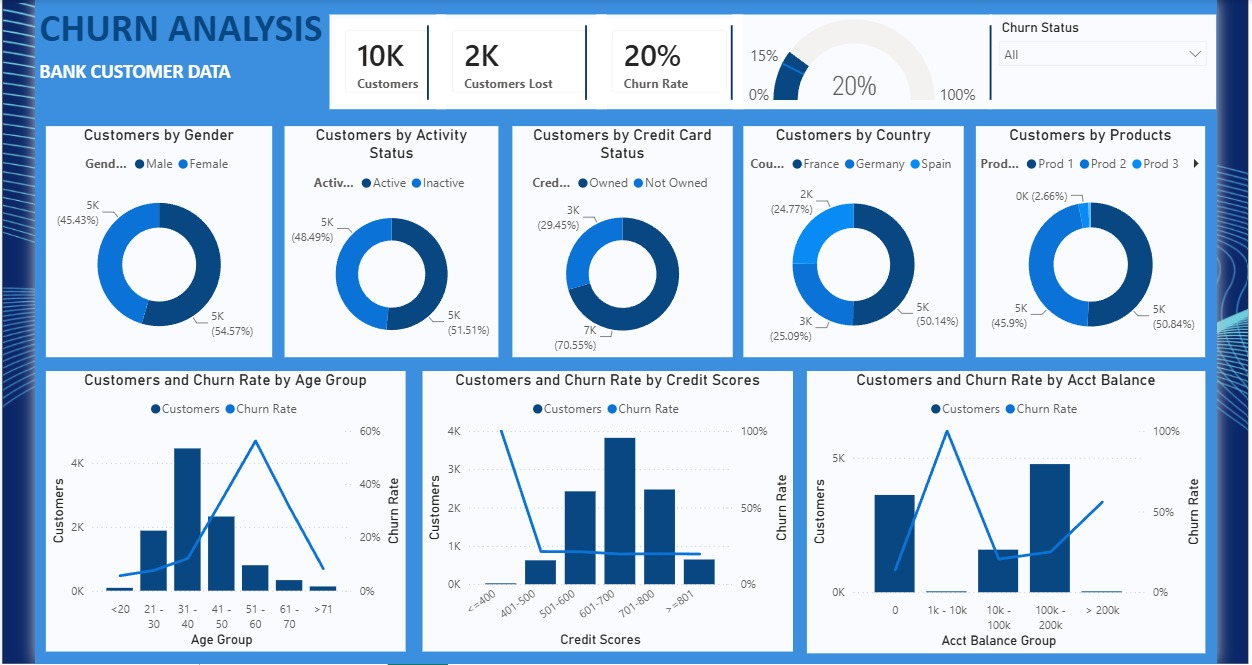

The dashboard page shown, as its layout file describes it:
{"tool":"powerbi","page":{"name":"Churn Analysis","canvas":[1280,720],"ordinal":0},"visuals":[{"type":"cardVisual","fields":{"Data":["Bank Customer Churn Prediction.Customers"]},"box":[319,16.8,125.9,102.4],"z":0},{"type":"cardVisual","fields":{"Data":["Customer Data.Customers Lost"]},"box":[434.8,16.8,184.7,102.4],"z":1000},{"type":"cardVisual","fields":{"Data":["Customer Data.Churn Rate"]},"box":[607.8,16.8,159.5,102.4],"z":2000},{"type":"donutChart","fields":{"Y":["Customer Data.Customers"],"Category":["Customer Data.Gender"]},"box":[11.8,137.7,245.1,250.2],"z":3000},{"type":"donutChart","fields":{"Y":["Customer Data.Customers"],"Category":["Customer Data.Activity Status"]},"box":[270.3,137.7,231.7,250.2],"z":4000},{"type":"donutChart","fields":{"Y":["Customer Data.Customers"],"Category":["Customer Data.Credit Card Status"]},"box":[517.1,137.7,238.4,250.2],"z":5000},{"type":"donutChart","fields":{"Y":["Customer Data.Customers"],"Category":["Customer Data.Country"]},"box":[767.2,137.7,238.4,250.2],"z":6000},{"type":"donutChart","fields":{"Y":["Customer Data.Customers"],"Category":["Customer Data.Products"]},"box":[1019.1,137.7,248.5,250.2],"z":7000},{"type":"lineClusteredColumnComboChart","title":"Customers and Churn Rate by Acct  Balance ","fields":{"Y2":["Customer Data.Churn Rate"],"Y":["Customer Data.Customers"],"Category":["Account Balance Groups.Acct  Balance Group"]},"box":[836.1,402.9,431.5,305.6],"z":8000},{"type":"lineClusteredColumnComboChart","fields":{"Y":["Customer Data.Customers"],"Y2":["Customer Data.Churn Rate"],"Category":["Credit Credit Groups.Credit Scores"]},"box":[419.7,402.9,401.3,303.9],"z":9000},{"type":"lineClusteredColumnComboChart","fields":{"Y":["Customer Data.Customers"],"Y2":["Customer Data.Churn Rate"],"Category":["Age groups.Age Group"]},"box":[11.8,402.9,389.5,303.9],"z":10000},{"type":"gauge","fields":{"Y":["Customer Data.Churn Rate"],"MinValue":["Min(Customer Data.Min Churn Rate)"],"MaxValue":["Max(Customer Data.Max Churn Rate)"],"TargetValue":["Max(Customer Data.Target Churn Rate)"]},"box":[755.5,16.8,280.4,102.4],"z":11000},{"type":"slicer","fields":{"Values":["Customer Data.Churn Status"]},"box":[1034.2,16.8,245.1,102.4],"z":12000},{"type":"textbox","box":[0,0,342.5,119.2],"z":13000},{"type":"textbox","box":[0,60.4,270.3,58.8],"z":14000},{"type":"shape","box":[715.2,28.5,78.9,80.6],"z":15000},{"type":"shape","box":[557.4,28.5,78.9,80.6],"z":16000},{"type":"shape","box":[386.1,28.5,78.9,80.6],"z":17000},{"type":"shape","box":[995.6,28.5,78.9,80.6],"z":18000}]}

Visuals, with their boxes in screenshot pixels (x1, y1, x2, y2):
cardVisual - Bank Customer Churn Prediction.Customers: region(333, 15, 448, 109)
cardVisual - Customer Data.Customers Lost: region(438, 15, 607, 109)
cardVisual - Customer Data.Churn Rate: region(596, 15, 741, 109)
donutChart - Customer Data.Customers x Customer Data.Gender: region(53, 125, 276, 353)
donutChart - Customer Data.Customers x Customer Data.Activity Status: region(289, 125, 500, 353)
donutChart - Customer Data.Customers x Customer Data.Credit Card Status: region(513, 125, 731, 353)
donutChart - Customer Data.Customers x Customer Data.Country: region(741, 125, 959, 353)
donutChart - Customer Data.Customers x Customer Data.Products: region(971, 125, 1197, 353)
"Customers and Churn Rate by Acct  Balance " lineClusteredColumnComboChart: region(804, 367, 1197, 645)
lineClusteredColumnComboChart - Customer Data.Customers x Customer Data.Churn Rate: region(425, 367, 790, 644)
lineClusteredColumnComboChart - Customer Data.Customers x Customer Data.Churn Rate: region(53, 367, 408, 644)
gauge - Customer Data.Churn Rate x Min(Customer Data.Min Churn Rate): region(731, 15, 986, 109)
slicer - Customer Data.Churn Status: region(985, 15, 1208, 109)
textbox: region(42, 0, 354, 109)
textbox: region(42, 55, 289, 109)
shape: region(694, 26, 766, 99)
shape: region(550, 26, 622, 99)
shape: region(394, 26, 466, 99)
shape: region(949, 26, 1021, 99)
